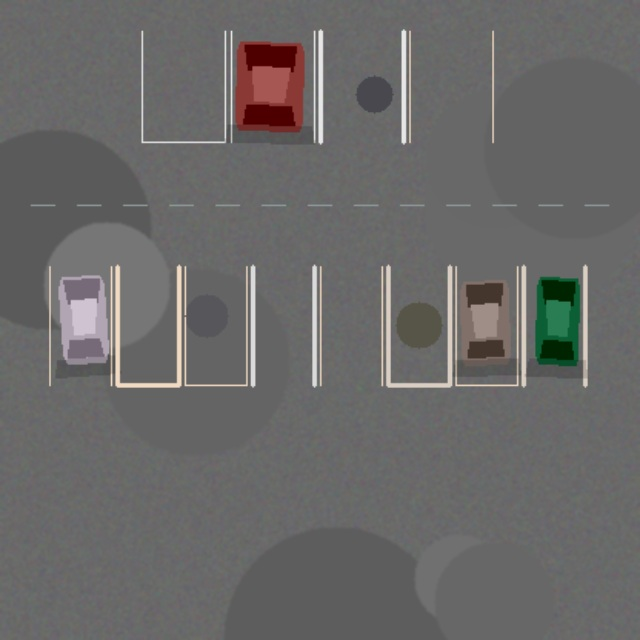space-empty: (142, 31, 225, 142), (320, 31, 403, 142), (409, 31, 492, 142), (252, 266, 314, 385), (320, 266, 382, 385), (117, 266, 178, 385), (185, 266, 246, 385), (388, 266, 449, 385)
space-occupied: (231, 31, 314, 142), (49, 266, 111, 385), (455, 266, 517, 385), (523, 266, 585, 385)
